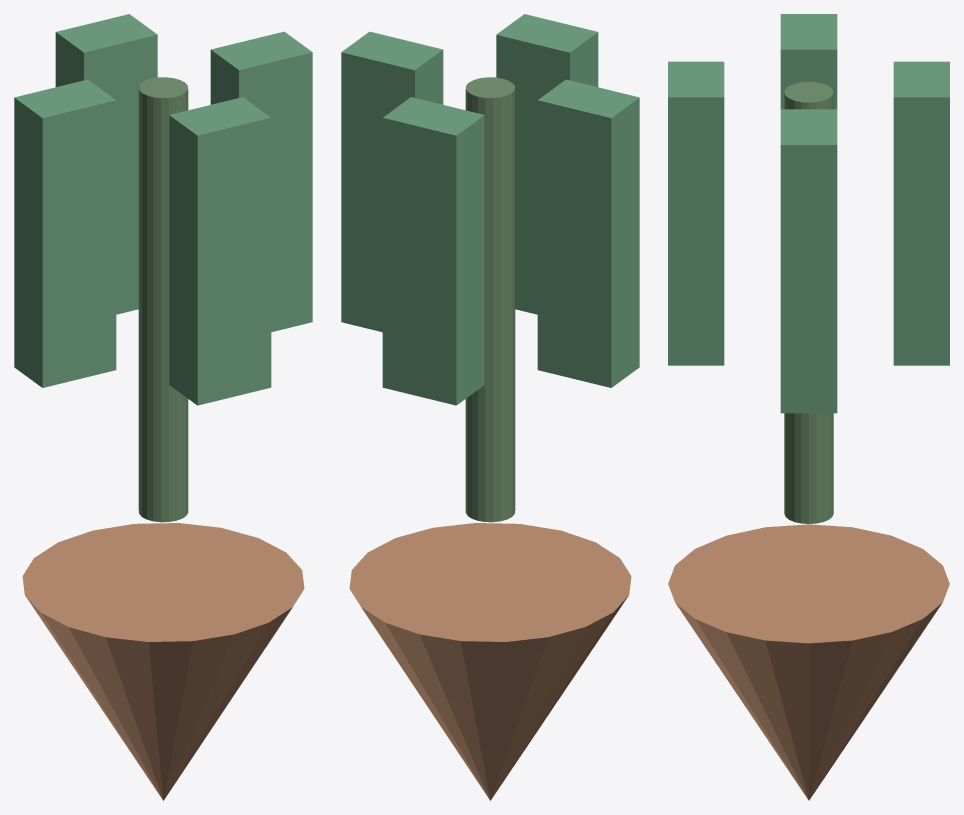
Rendered from plant.glb.
3 renders of one model, left to right at view 1: azimuth 30°, elevation 25°; view 2: azimuth 150°, elevation 25°; view 3: azimuth 270°, elevation 25°, orthographic.
Visible parts, largest first — view 1: Pot, Leaf_0, Leaf_3, Stem, Leaf_1, Leaf_2; view 2: Pot, Leaf_0, Leaf_2, Stem, Leaf_1, Leaf_3; view 3: Pot, Leaf_1, Leaf_2, Leaf_3, Stem, Leaf_0.
Part boxes in pixels (x1=…): Pot: x1=22, y1=523, x2=304, y2=800; Leaf_0: x1=14, y1=79, x2=116, y2=387; Leaf_3: x1=169, y1=97, x2=271, y2=405; Stem: x1=138, y1=77, x2=188, y2=522; Leaf_1: x1=210, y1=31, x2=312, y2=332; Leaf_2: x1=55, y1=14, x2=157, y2=314; Pot: x1=349, y1=523, x2=631, y2=800; Leaf_0: x1=537, y1=79, x2=639, y2=387; Leaf_2: x1=382, y1=97, x2=484, y2=405; Stem: x1=465, y1=77, x2=515, y2=522; Leaf_1: x1=341, y1=31, x2=443, y2=332; Leaf_3: x1=496, y1=14, x2=598, y2=314; Pot: x1=668, y1=524, x2=949, y2=800; Leaf_1: x1=780, y1=109, x2=837, y2=413; Leaf_2: x1=893, y1=61, x2=949, y2=365; Leaf_3: x1=668, y1=61, x2=724, y2=365; Stem: x1=784, y1=82, x2=833, y2=523; Leaf_0: x1=780, y1=14, x2=837, y2=109.
Size of the model in its own units: 0.44 by 1.13 by 0.4.
